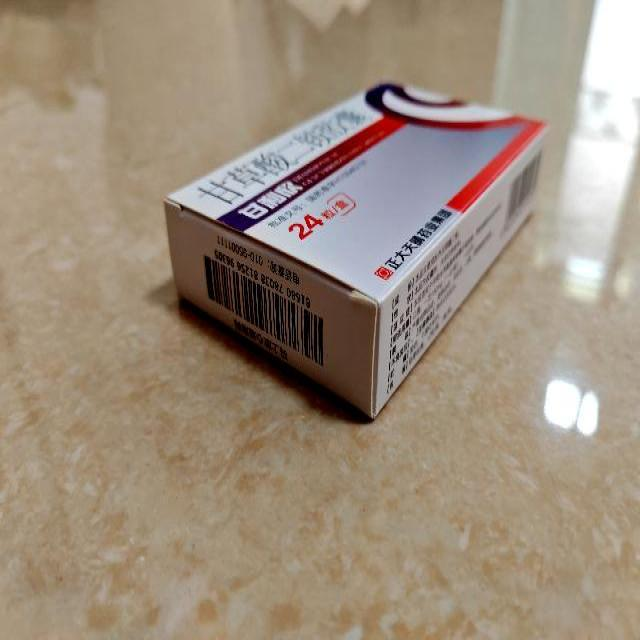box: (164, 80, 546, 422)
